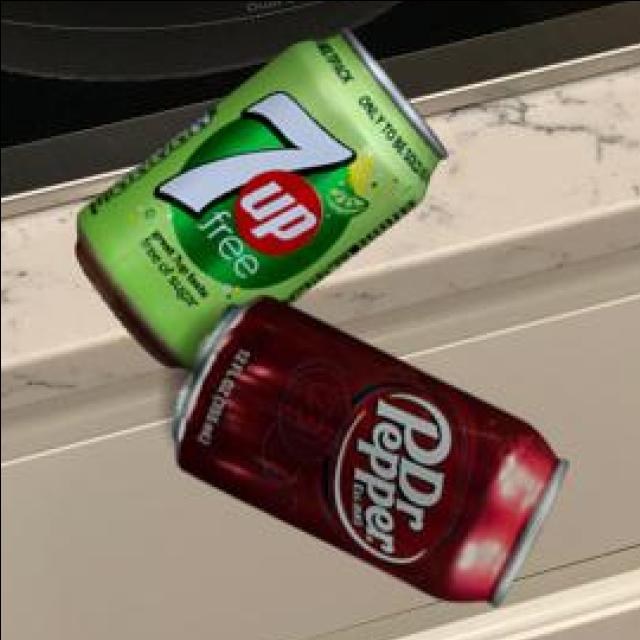logam: (72, 25, 442, 366), (169, 293, 563, 601)
